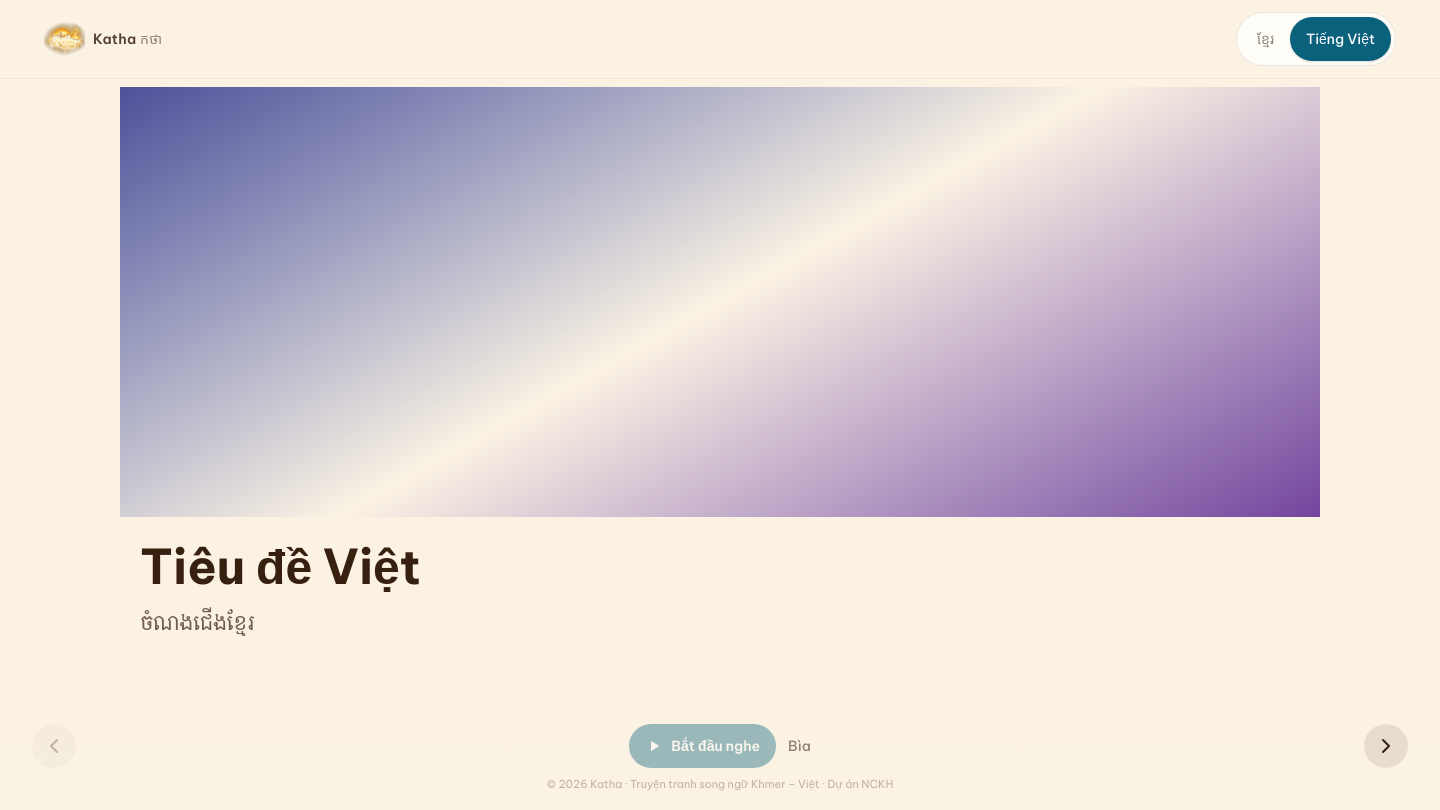
Test: StoryReader › persists language selection and updates the primary cover title
This screenshot has width=1440, height=810.
Step 1. Click the radio button labelled "ខ្មែរ" → (1266,39), box [1241,17,1290,61]
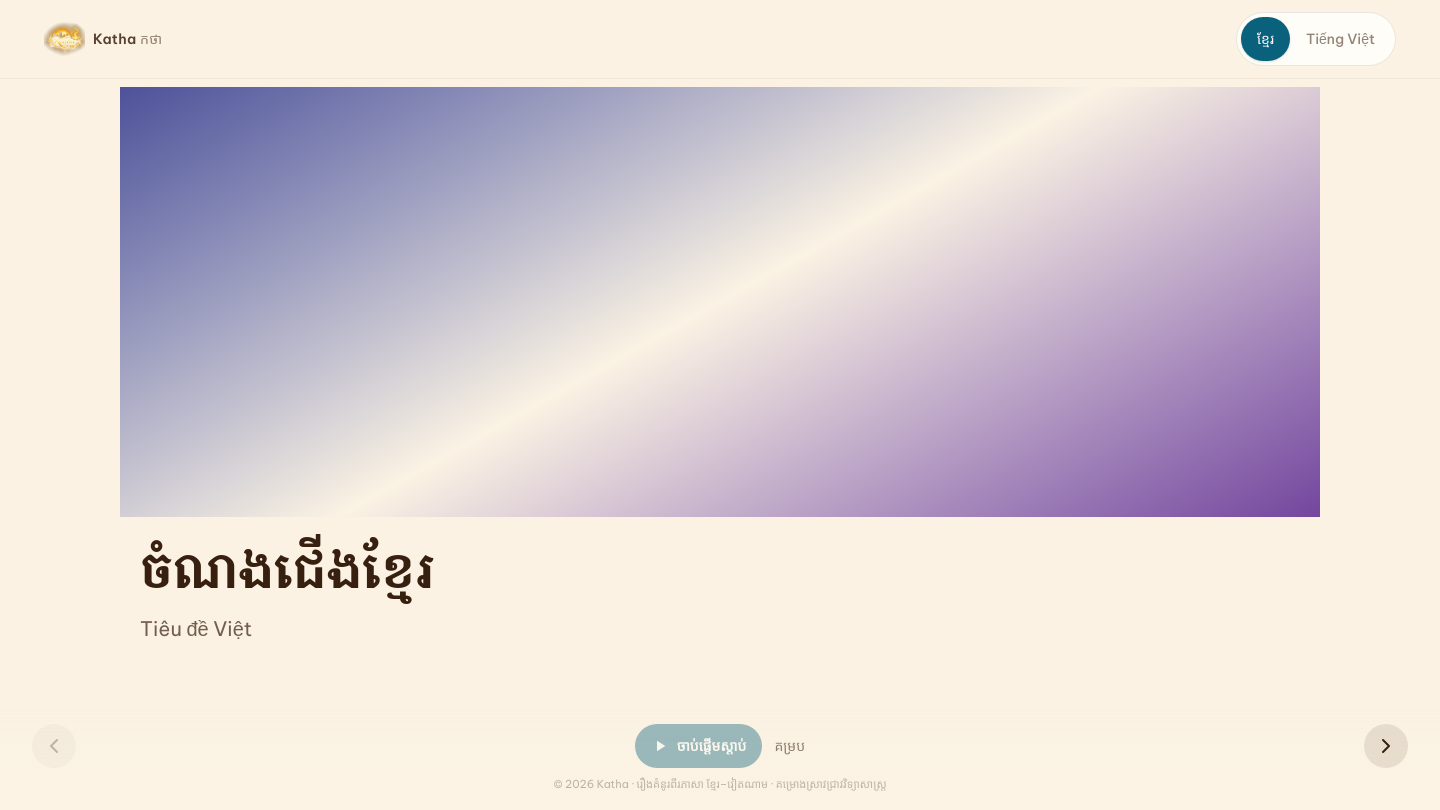
Expected: the button named "ទំព័របន្ទាប់" is shown, [1364,724,1408,768]
Result: the heading reads "ចំណងជើងខ្មែរ" at [140,537,434,602]
